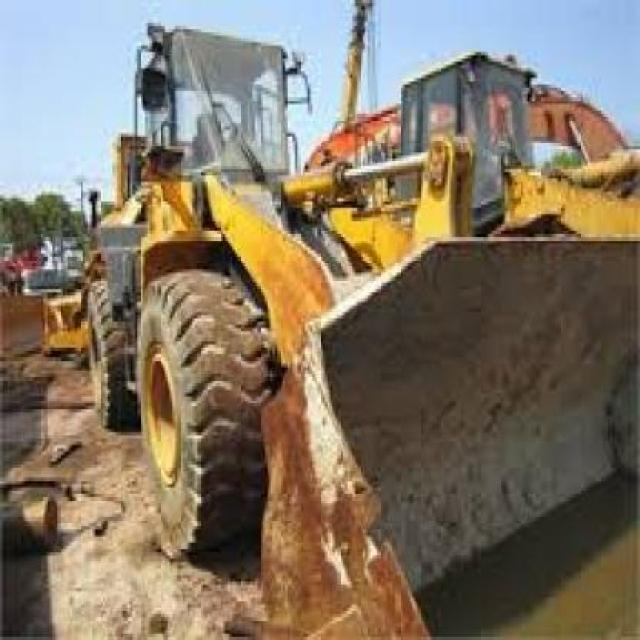buldozerpayloadergrader: (57, 3, 640, 640)
